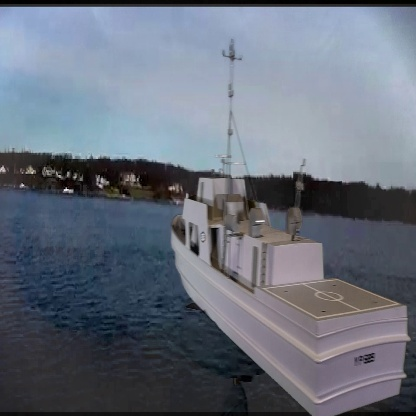YP689: (171, 39, 412, 416)
